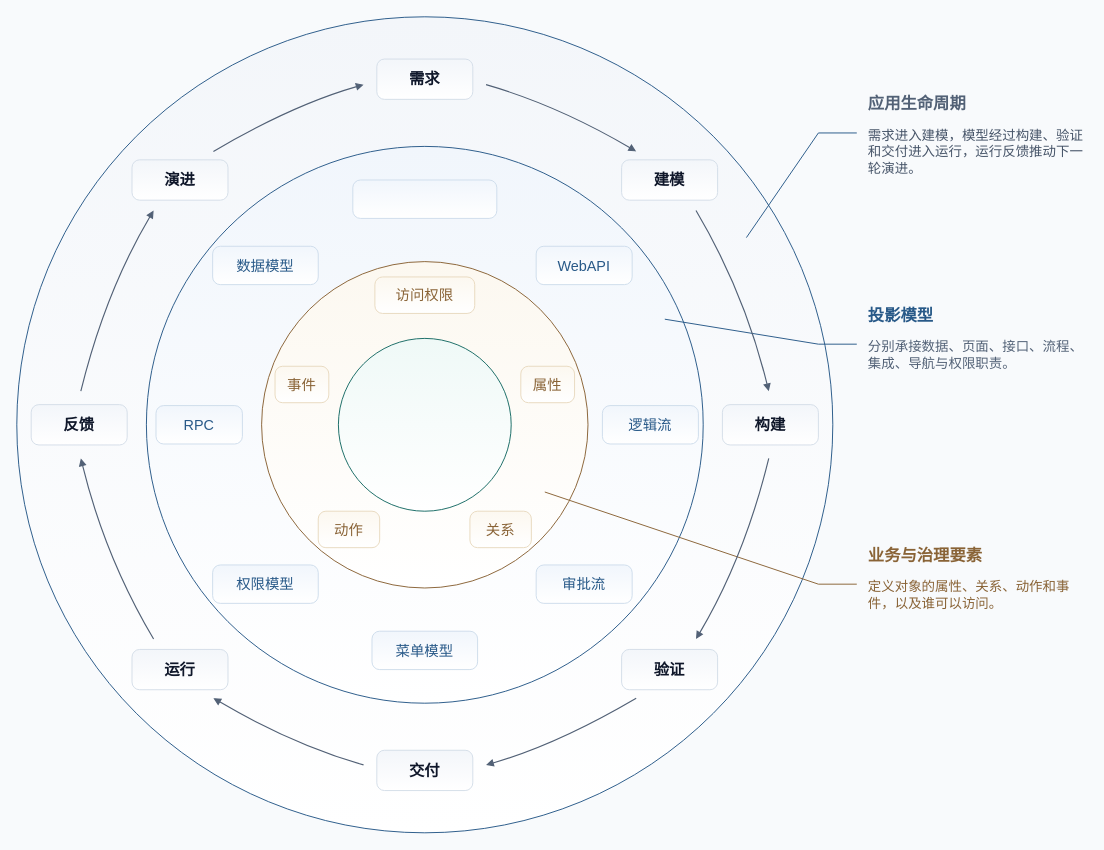
The diagram is 1104 pixels wide and 850 high, and some of its shapes have lost their labels. Here are the shapes that lost their labels. From the top down, the centre of each, then its label:
the point at 424,198: UI / UI Schema
the point at 424,424: 业务模型 业务语义与治理边界
